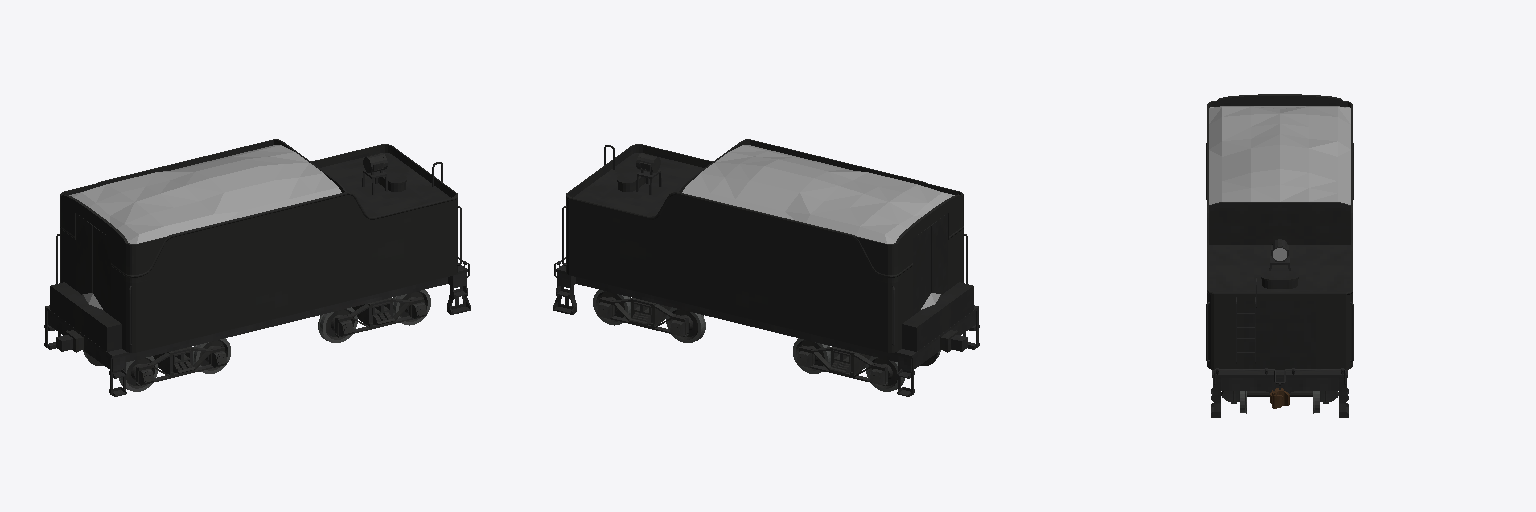
3 views of the same model, side by side, from view 1: azimuth 30°, elevation 25°; view 2: azimuth 150°, elevation 25°; view 3: azimuth 270°, elevation 25° (orthographic).
Visible parts, largest first — view 1: SHELL_Cube.003, COAL_Plane, FRAME_Cube.002, BOGEY_REAR_Cube.001, BOGEY_FRONT_Cube, BOGEY_REAR_WHEEL_1_Cylinder.002, BOGEY_FRONT_WHEEL_1_Cylinder.029, HEADLAMP_Cylinder.010; view 2: SHELL_Cube.003, COAL_Plane, FRAME_Cube.002, BOGEY_REAR_Cube.001, BOGEY_FRONT_Cube, BOGEY_REAR_WHEEL_1_Cylinder.002, BOGEY_FRONT_WHEEL_1_Cylinder.029, HEADLAMP_Cylinder.010; view 3: SHELL_Cube.003, COAL_Plane, FRAME_Cube.002, BOGEY_REAR_WHEEL_2_Cylinder.001.
Part boxes in pixels (x1,y1,x2,y2): SHELL_Cube.003: (50,139,461,352); COAL_Plane: (69,145,341,309); FRAME_Cube.002: (44,263,470,396); BOGEY_REAR_Cube.001: (335,297,426,337); BOGEY_FRONT_Cube: (136,345,227,385); BOGEY_REAR_WHEEL_1_Cylinder.002: (318,307,357,342); BOGEY_FRONT_WHEEL_1_Cylinder.029: (83,350,157,391); HEADLAMP_Cylinder.010: (362,153,387,194); SHELL_Cube.003: (562,139,973,352); COAL_Plane: (682,145,954,309); FRAME_Cube.002: (553,263,979,396); BOGEY_REAR_Cube.001: (597,297,688,337); BOGEY_FRONT_Cube: (796,345,887,385); BOGEY_REAR_WHEEL_1_Cylinder.002: (666,307,705,342); BOGEY_FRONT_WHEEL_1_Cylinder.029: (866,350,940,391); HEADLAMP_Cylinder.010: (636,153,661,194); SHELL_Cube.003: (1206,94,1353,369); COAL_Plane: (1209,106,1350,204); FRAME_Cube.002: (1211,370,1348,417); BOGEY_REAR_WHEEL_2_Cylinder.001: (1240,391,1319,413).
Bounding box in the file's own units: 9.47 × 4.09 × 3.07.
5 materials, 2 textured.